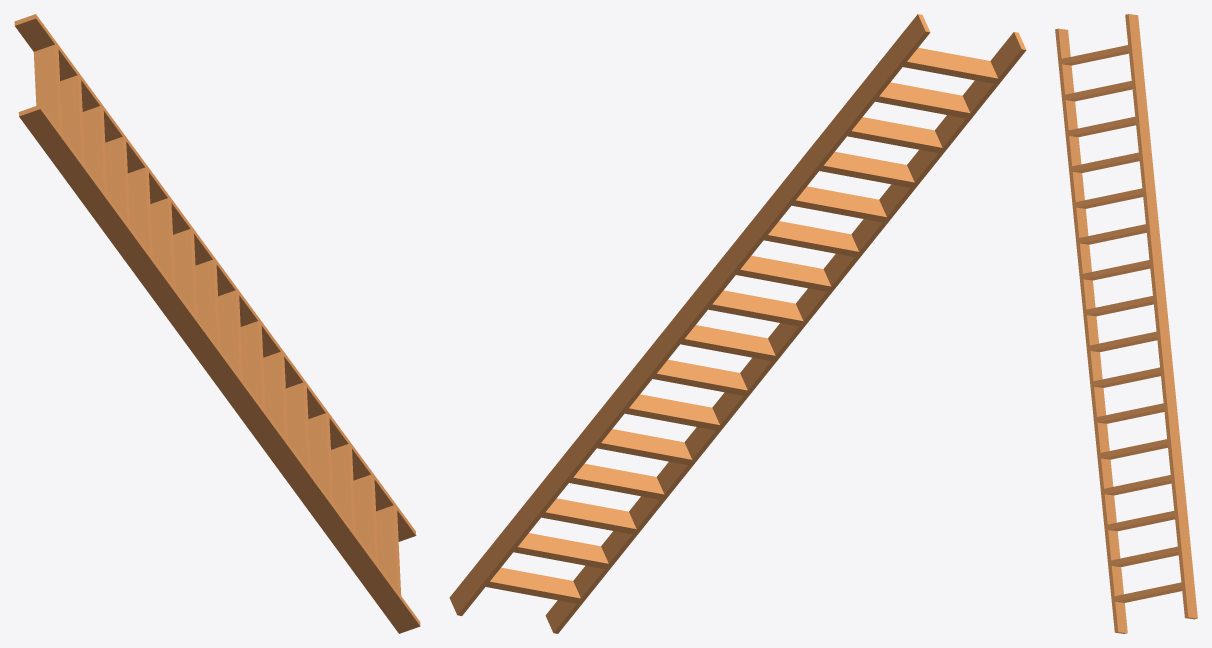
Rendered from ladder.glb.
The picture shows the model from 3 angles, left to right: view 1: azimuth 30°, elevation 25°; view 2: azimuth 150°, elevation 25°; view 3: azimuth 270°, elevation 25°; orthographic projection. The views are drawn at different scales.
Visible parts, largest first — view 1: Cube; view 2: Cube; view 3: Cube.
Part boxes in pixels (box(x1,y1,x2,y2)): Cube: box(14, 14, 420, 633); Cube: box(449, 14, 1026, 633); Cube: box(1055, 14, 1197, 633).
Bounding box in the file's own units: 2.03 × 2.83 × 0.7373.
